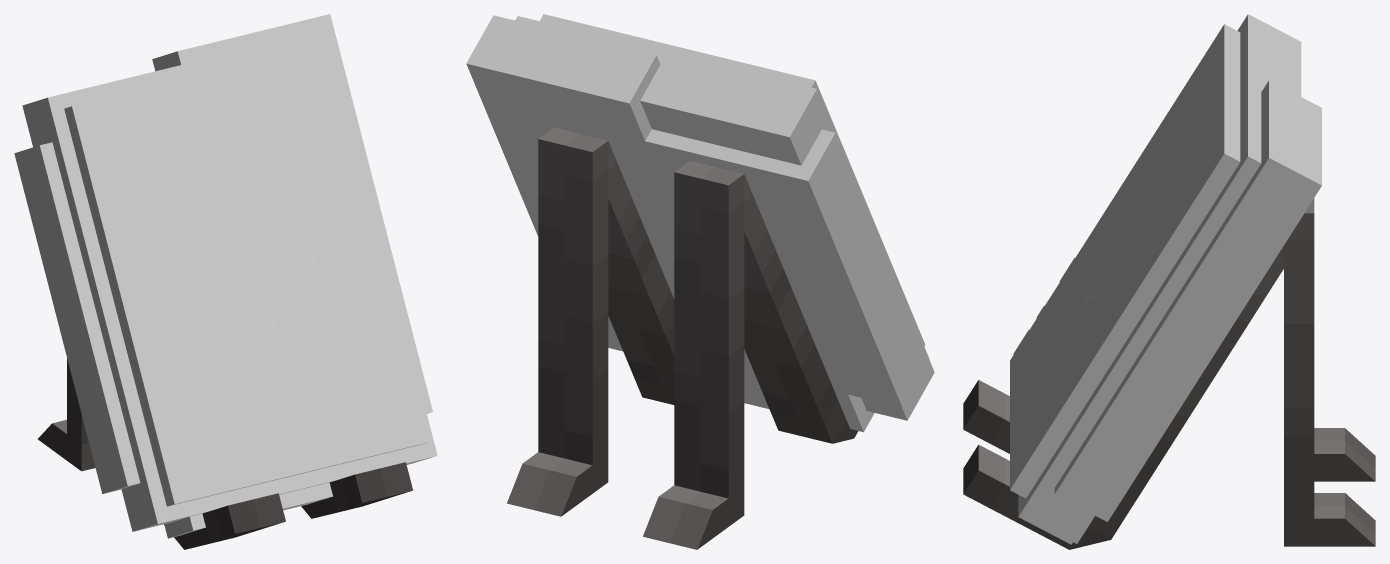
Rendered from boss_trophy_demons.obj.
3 views of the same model, side by side, from view 1: azimuth 30°, elevation 25°; view 2: azimuth 150°, elevation 25°; view 3: azimuth 270°, elevation 25° (orthographic). The views are drawn at different scales.
Visible parts, largest first — view 1: TABLET_Cube, STAND_Cube.002; view 2: STAND_Cube.002, TABLET_Cube; view 3: TABLET_Cube, STAND_Cube.002.
Part boxes in pixels (x1,y1,x2,y2): TABLET_Cube: (14, 14, 437, 538); STAND_Cube.002: (38, 358, 412, 549); STAND_Cube.002: (507, 127, 858, 549); TABLET_Cube: (466, 14, 934, 432); TABLET_Cube: (1010, 14, 1321, 544); STAND_Cube.002: (963, 198, 1375, 549).
Size of the model in its own units: 0.75 by 0.9556 by 0.8415.
